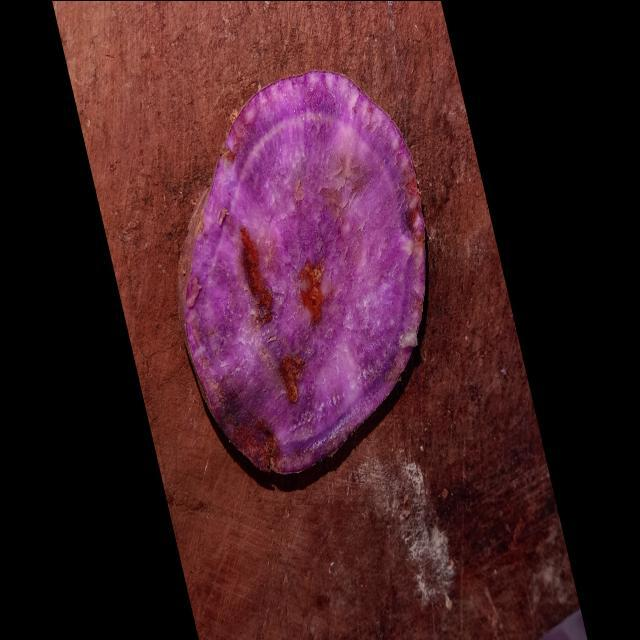Sick Sweet Potato_Tuber Rot: (178, 71, 425, 473)
